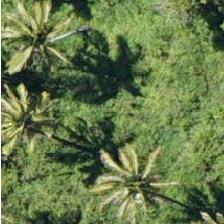coconut_tree: (0, 0, 86, 87), (84, 142, 174, 223), (0, 76, 67, 166)
